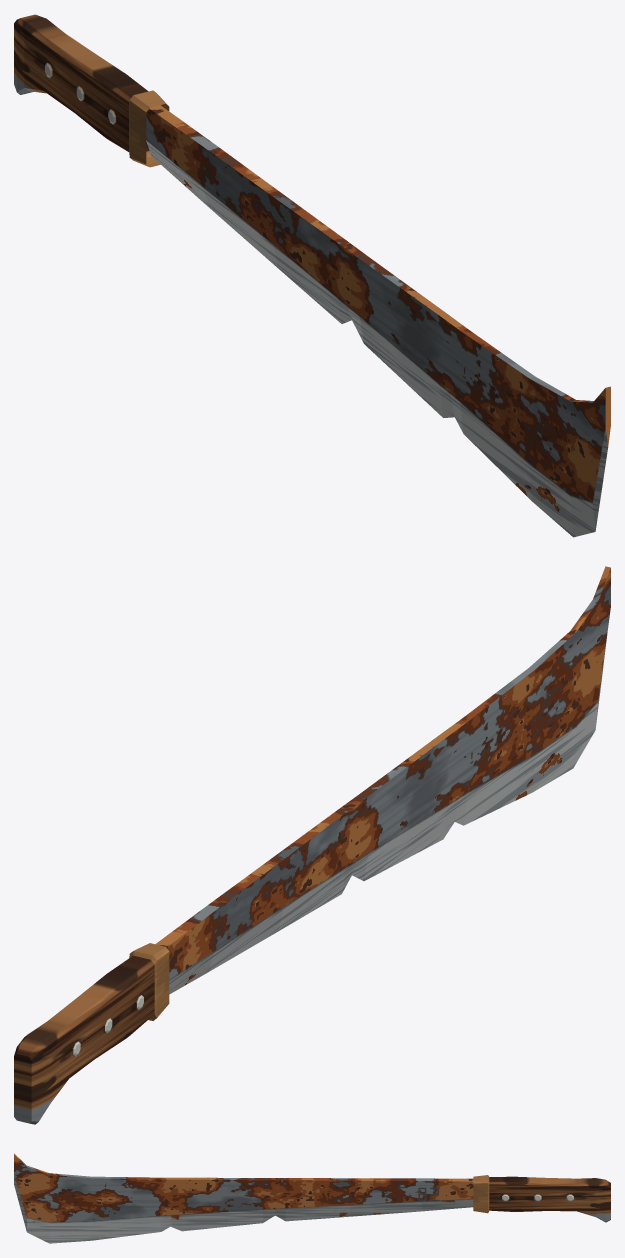
File: machete.glb
3 views of the same model, one above another, from view 1: azimuth 30°, elevation 25°; view 2: azimuth 150°, elevation 25°; view 3: azimuth 270°, elevation 25° (orthographic). The views are drawn at different scales.
Parts seen in each view (by area): view 1: machete; view 2: machete; view 3: machete.
Part boxes in pixels (x1,y1,x2,y2): machete: [14, 14, 610, 537]; machete: [14, 566, 610, 1124]; machete: [14, 1153, 610, 1243].
Size of the model in its own units: 0.0276 by 0.153 by 0.923.
3 materials, 1 textured.
